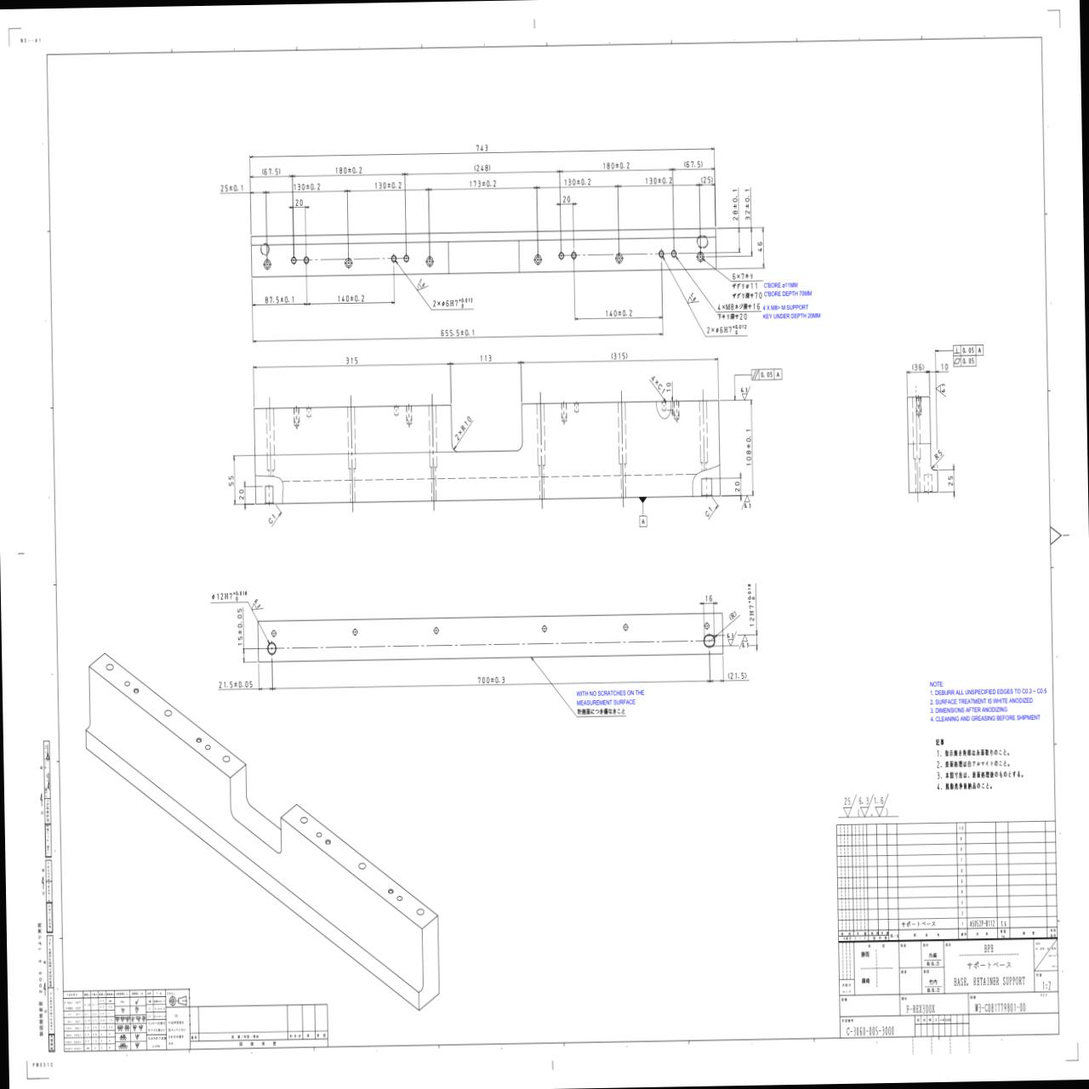basic_dimension: (264, 168, 279, 175), (686, 161, 701, 168), (730, 672, 744, 679), (346, 357, 358, 365), (480, 354, 492, 362), (613, 352, 625, 360), (760, 371, 773, 378), (476, 144, 488, 151), (476, 165, 488, 171), (757, 241, 763, 253), (735, 481, 741, 493), (947, 475, 953, 486), (703, 176, 711, 184), (228, 476, 234, 486), (295, 199, 303, 206), (563, 195, 570, 203), (941, 363, 948, 371), (239, 489, 244, 500), (666, 382, 671, 392), (706, 595, 713, 602), (915, 364, 922, 371)
datum_symbol: (638, 497, 648, 527)
dimension_chamfer_symbol: (703, 506, 713, 519), (267, 514, 276, 526), (657, 382, 665, 394)
dimension_chamfer_text: (707, 505, 714, 514), (660, 388, 666, 395), (271, 513, 276, 520)
dimension_diameter_symbol: (211, 591, 248, 602), (441, 297, 474, 309), (715, 324, 747, 336), (745, 282, 758, 290)
dimension_diameter_text: (216, 592, 224, 601), (750, 282, 758, 290), (719, 326, 724, 334), (445, 299, 449, 308)
dimension_metric_symbol: (725, 303, 734, 311)
dimension_metric_text: (730, 303, 734, 310)
dimension_radius_symbol: (460, 415, 472, 433), (933, 449, 943, 461), (729, 611, 736, 620)
dimension_radius_text: (463, 416, 472, 427), (937, 449, 943, 458)
explicit_tolerance_text: (265, 295, 295, 305), (219, 681, 253, 689), (236, 609, 243, 646), (440, 329, 475, 336), (337, 294, 367, 302), (477, 676, 505, 684), (603, 162, 630, 170), (294, 183, 320, 191), (336, 166, 362, 174), (470, 180, 496, 188), (564, 179, 590, 187), (646, 177, 672, 185), (732, 189, 738, 221), (744, 189, 750, 221), (375, 182, 402, 189), (606, 310, 633, 317), (746, 429, 751, 466), (220, 184, 243, 192)
gdt_frame_symbol: (750, 368, 783, 382), (952, 344, 985, 356), (953, 356, 978, 368)
gdt_parallelism_symbol: (752, 371, 759, 380)
gdt_perpendicularity_symbol: (953, 347, 960, 354)
surface_finish_symbol: (934, 382, 948, 399), (686, 291, 701, 305), (416, 281, 431, 292), (727, 631, 737, 647), (739, 634, 749, 650), (741, 494, 751, 510), (252, 597, 264, 610), (741, 386, 751, 401)
